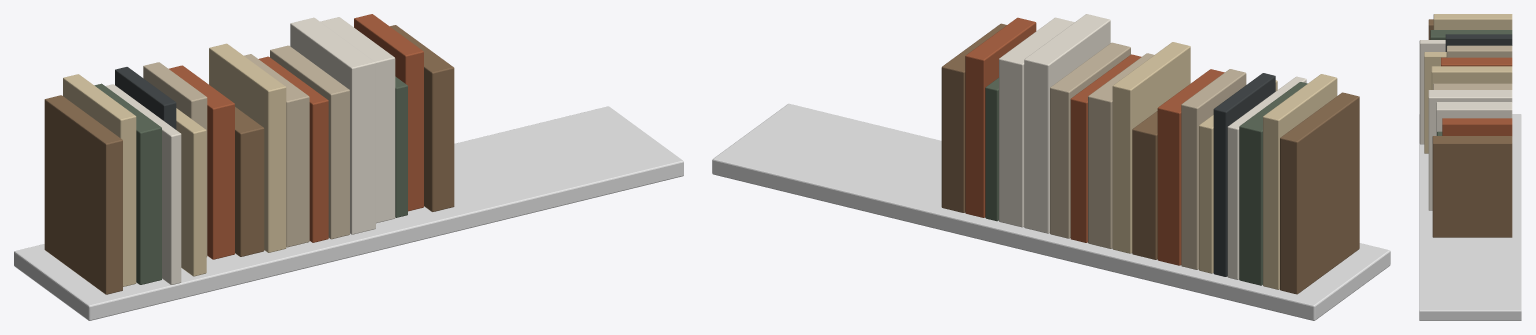
The model's file is wall_shelf__0.glb.
The picture shows the model from 3 angles, left to right: view 1: azimuth 30°, elevation 25°; view 2: azimuth 150°, elevation 25°; view 3: azimuth 270°, elevation 25°; orthographic projection. The views are drawn at different scales.
Visible parts, largest first — view 1: shelf, book, book.013, book.009, book.007, book.017, book.012, book.002, book.001, book.014, book.016, book.008 (+7 smaller); view 2: shelf, book, book.013, book.009, book.014, book.016, book.001, book.012, book.007, book.006, book.002, book.010 (+7 smaller); view 3: shelf, book.017, book.013, book.009, book.014, book.001, book.016, book.003, book.006, book.004, book.005, book.007 (+3 smaller).
Boxes of the visible parts, x1,y1,x2,y2 form: shelf: (14, 106, 683, 320); book: (44, 95, 122, 294); book.013: (290, 17, 375, 234); book.009: (209, 43, 286, 252); book.007: (169, 65, 234, 259); book.017: (390, 25, 454, 211); book.012: (270, 45, 349, 239); book.002: (94, 83, 161, 284); book.001: (63, 74, 136, 286); book.014: (320, 17, 395, 223); book.016: (354, 14, 423, 211); book.008: (235, 107, 264, 256); shelf: (712, 103, 1390, 320); book: (1280, 92, 1359, 294); book.013: (1024, 14, 1110, 233); book.009: (1112, 42, 1190, 253); book.014: (999, 17, 1074, 227); book.016: (965, 17, 1036, 217); book.001: (1263, 74, 1337, 289); book.012: (1050, 42, 1130, 238); book.007: (1157, 69, 1224, 265); book.006: (1181, 69, 1246, 269); book.002: (1239, 82, 1307, 285); book.010: (1088, 53, 1153, 248); shelf: (1419, 114, 1521, 320); book.017: (1432, 136, 1512, 237); book.013: (1428, 90, 1512, 210); book.009: (1431, 66, 1512, 89); book.014: (1436, 102, 1512, 135); book.001: (1433, 14, 1512, 29); book.016: (1442, 118, 1512, 135); book.003: (1419, 40, 1445, 144); book.006: (1446, 45, 1512, 57); book.004: (1445, 34, 1512, 51); book.005: (1424, 52, 1446, 153); book.007: (1441, 57, 1512, 66).
Size of the model in its own units: 1 by 0.2947 by 0.22.
